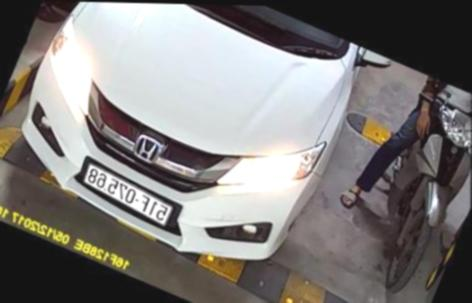License_Plate: (68, 164, 194, 228)
